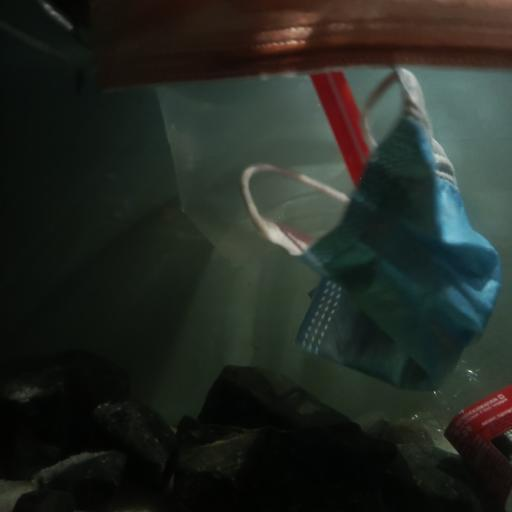mask: (242, 72, 505, 394), (22, 0, 512, 76)
plastic_bottle: (409, 359, 512, 497)
plastic_cup: (155, 76, 383, 274)
plastic_straw: (313, 77, 373, 175)
